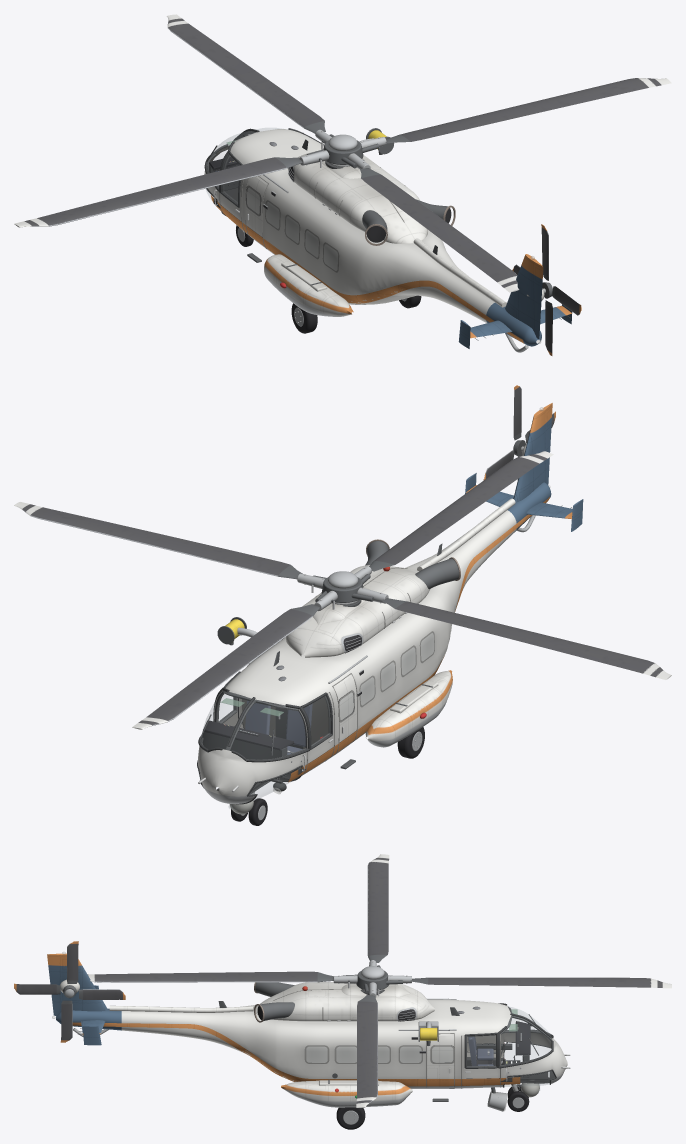
Rendered from northstar_175.gltf.
3 views of the same model, one above another, from view 1: azimuth 30°, elevation 25°; view 2: azimuth 150°, elevation 25°; view 3: azimuth 270°, elevation 25° (orthographic). The views are drawn at different scales.
Parts seen in each view (by area): view 1: Fuselage (game), body skin (game), blades skin (game), tail_rotor skin (game), door_cabin_l skin (game), Fuselage (door).002 (game), door_crew_l skin (game); view 2: Fuselage (game), body skin (game), blades skin (game), Fuselage (door).002 (game), door_cabin_l skin (game), Instrument panel (game), Glareshield (game), tail_rotor skin (game), Rear bulkhead (game), door_crew_l skin (game), Seat back.001 (game), Seat back (game); view 3: Fuselage (game), body skin (game), blades skin (game), tail_rotor skin (game), Fuselage (door) (game), door_cabin_r skin (game), door_crew_r skin (game), Cockpit lining (game), Glareshield (game), eq_hoist skin (game).
Part boxes in pixels (x1=…): Fuselage (game): x1=204, y1=128, x2=541, y2=346; body skin (game): x1=204, y1=128, x2=572, y2=352; blades skin (game): x1=14, y1=14, x2=671, y2=292; tail_rotor skin (game): x1=512, y1=224, x2=581, y2=355; door_cabin_l skin (game): x1=245, y1=176, x2=266, y2=246; Fuselage (door).002 (game): x1=220, y1=155, x2=242, y2=221; door_crew_l skin (game): x1=213, y1=151, x2=243, y2=230; Fuselage (game): x1=198, y1=482, x2=551, y2=803; body skin (game): x1=197, y1=403, x2=583, y2=825; blades skin (game): x1=14, y1=451, x2=671, y2=729; Fuselage (door).002 (game): x1=304, y1=692, x2=334, y2=763; door_cabin_l skin (game): x1=334, y1=676, x2=356, y2=752; Instrument panel (game): x1=202, y1=732, x2=287, y2=777; Glareshield (game): x1=203, y1=720, x2=293, y2=750; tail_rotor skin (game): x1=483, y1=385, x2=555, y2=480; Rear bulkhead (game): x1=242, y1=697, x2=328, y2=748; door_crew_l skin (game): x1=297, y1=693, x2=333, y2=774; Seat back.001 (game): x1=245, y1=700, x2=270, y2=734; Seat back (game): x1=286, y1=705, x2=309, y2=746; Fuselage (game): x1=56, y1=999, x2=567, y2=1088; body skin (game): x1=47, y1=953, x2=570, y2=1129; blades skin (game): x1=87, y1=854, x2=671, y2=1107; tail_rotor skin (game): x1=14, y1=941, x2=125, y2=1042; Fuselage (door) (game): x1=461, y1=1035, x2=499, y2=1086; door_cabin_r skin (game): x1=427, y1=1035, x2=455, y2=1086; door_crew_r skin (game): x1=462, y1=1033, x2=512, y2=1085; Cockpit lining (game): x1=467, y1=1032, x2=554, y2=1082; Glareshield (game): x1=516, y1=1021, x2=530, y2=1055; eq_hoist skin (game): x1=418, y1=1021, x2=438, y2=1045.
Size of the model in its own units: 15 by 4.8 by 16.5.
Materials: 51 (11 with a texture image).
